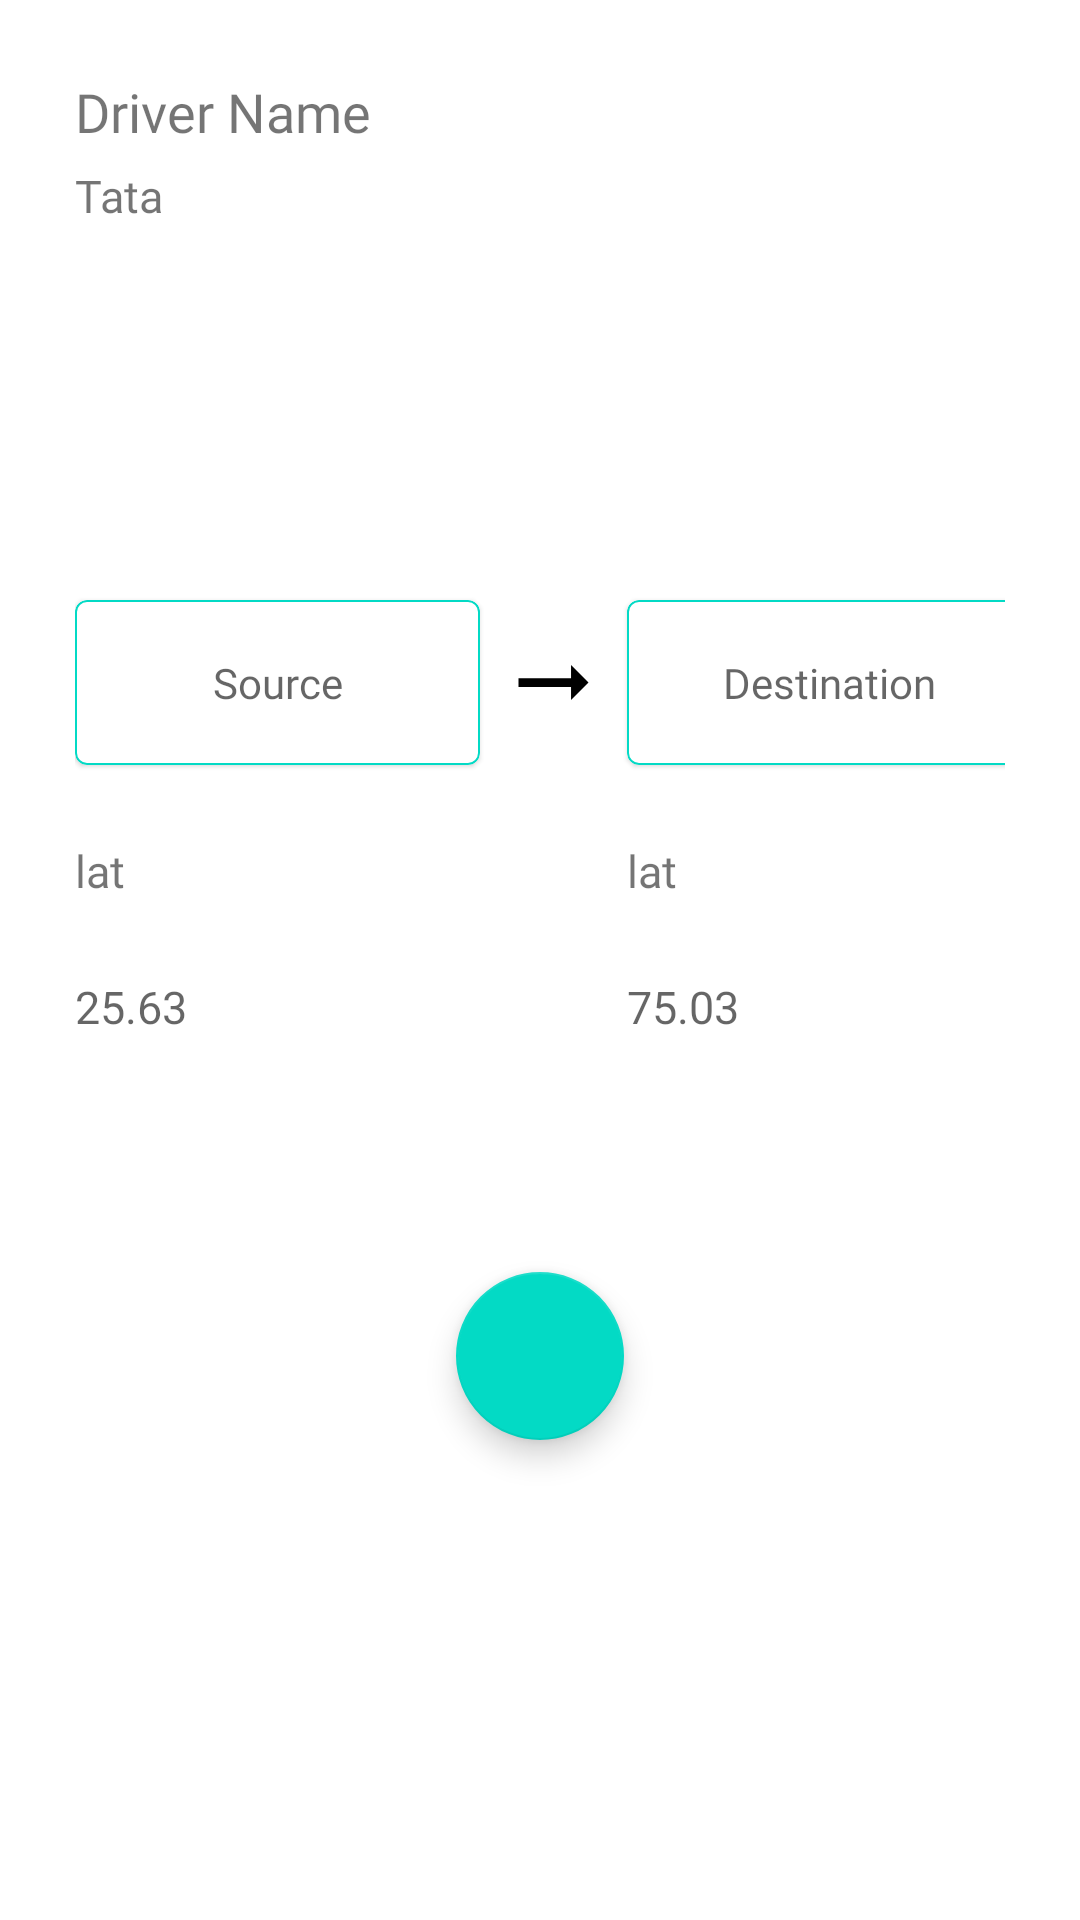

Icon bounding boxes for this 1080 × 1920 phone screenshot, format bbox=[x1, y1, x2, y2]:
arrow right: bbox=[518, 665, 589, 700]
